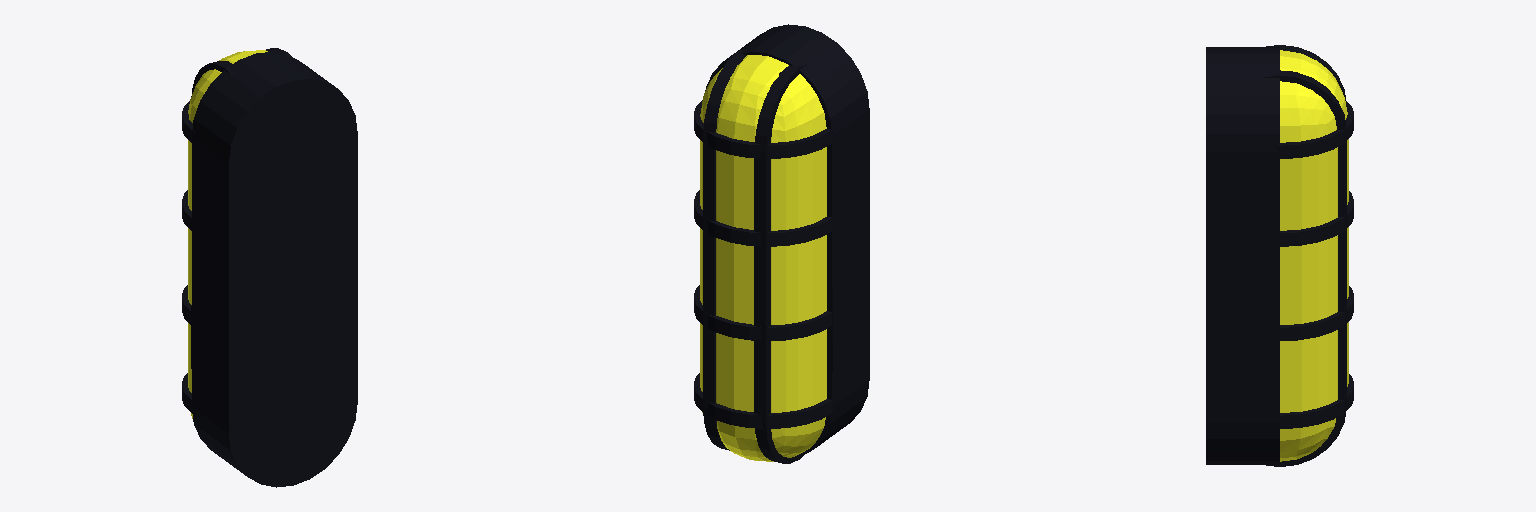
Rendered from Lightbulb.obj.
The picture shows the model from 3 angles: view 1: azimuth 30°, elevation 25°; view 2: azimuth 150°, elevation 25°; view 3: azimuth 270°, elevation 25°; orthographic projection.
Parts seen in each view (by area): view 1: Union1, Light1; view 2: Union1, Light1; view 3: Union1, Light1.
Part boxes in pixels (left/top/right/bottom): Union1: left=182, top=48, right=357, bottom=487; Light1: left=188, top=50, right=267, bottom=418; Union1: left=694, top=24, right=869, bottom=463; Light1: left=700, top=55, right=826, bottom=461; Union1: left=1206, top=45, right=1353, bottom=466; Light1: left=1280, top=50, right=1348, bottom=461.
Bounding box in the file's own units: 1 × 3 × 1.